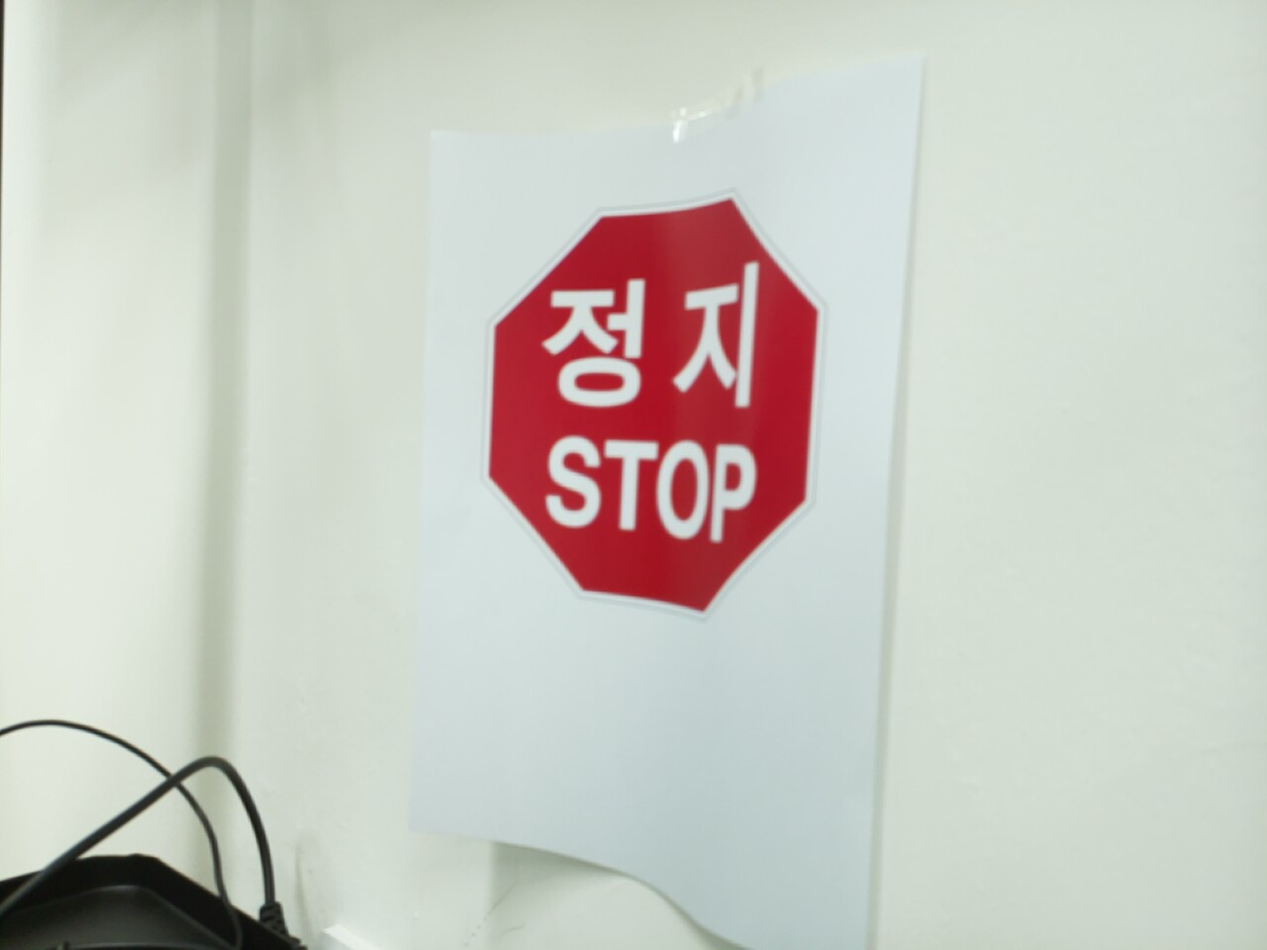stop: (479, 187, 828, 623)
